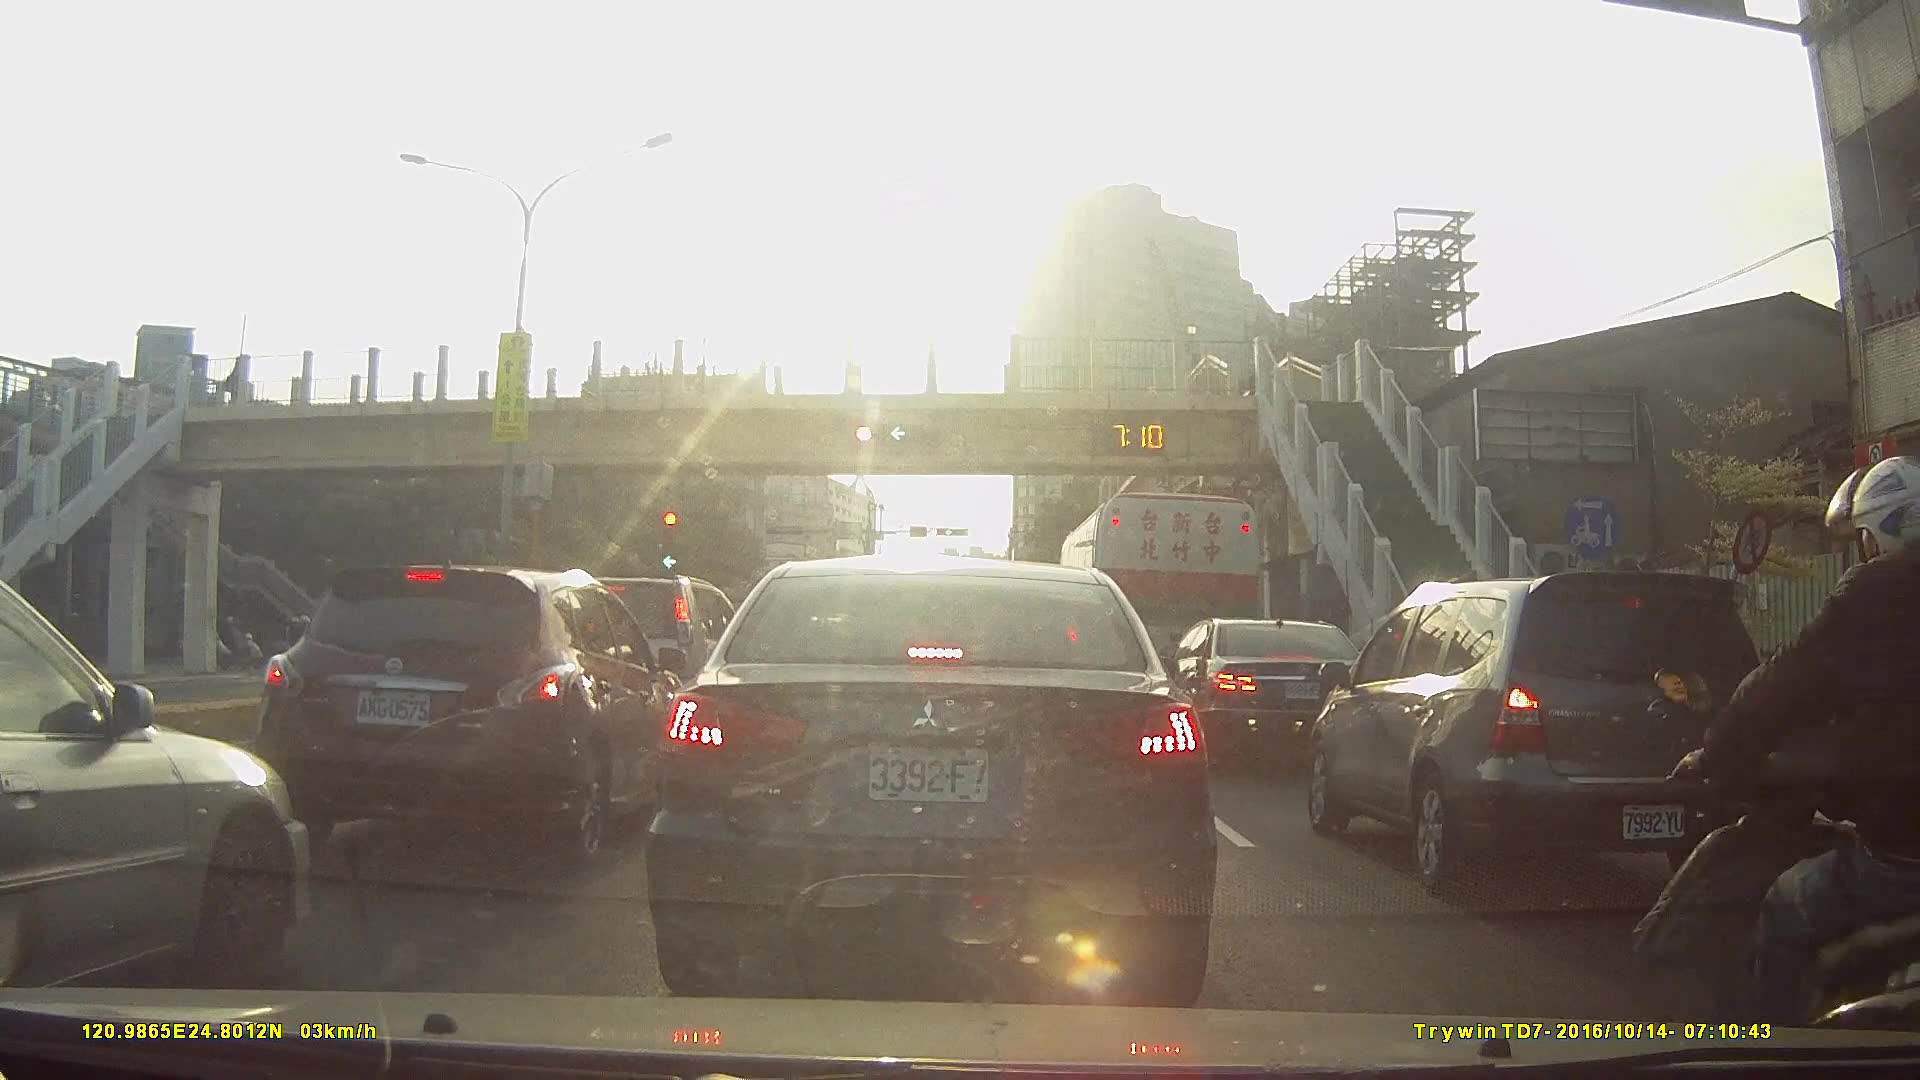pedestrian: (1240, 351, 1267, 408), (227, 358, 253, 412)
rider: (1636, 470, 1920, 1080), (209, 615, 267, 669)
vehicle: (643, 552, 1218, 1004), (1305, 569, 1779, 892), (249, 560, 694, 869), (0, 572, 314, 1004), (1056, 490, 1262, 726), (1155, 614, 1383, 767)
